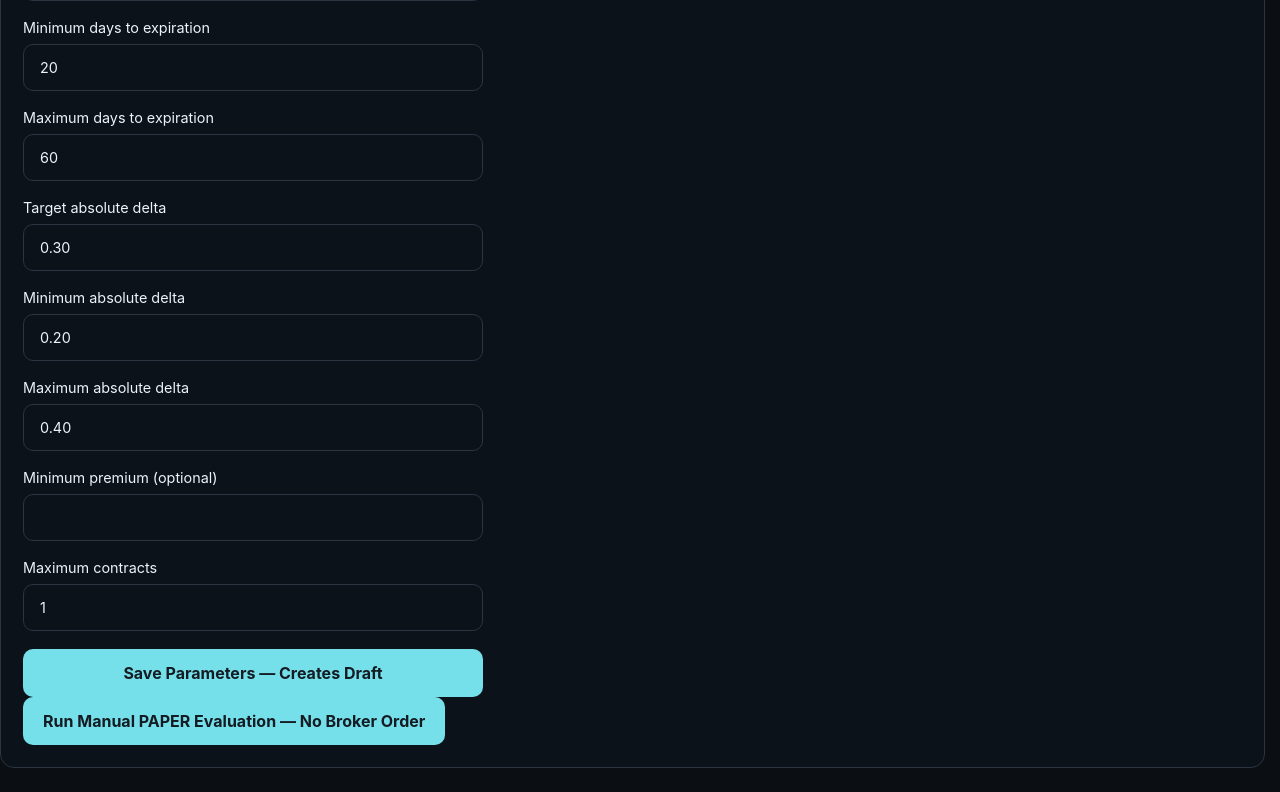
StrategyEvaluationControls › shows a safe validation reason when an evaluation fails closed
(page scrolled)
Click the button "Run Manual PAPER Evaluation — No Broker Order".
click(234, 721)  # box left=23, top=697, right=445, bottom=745
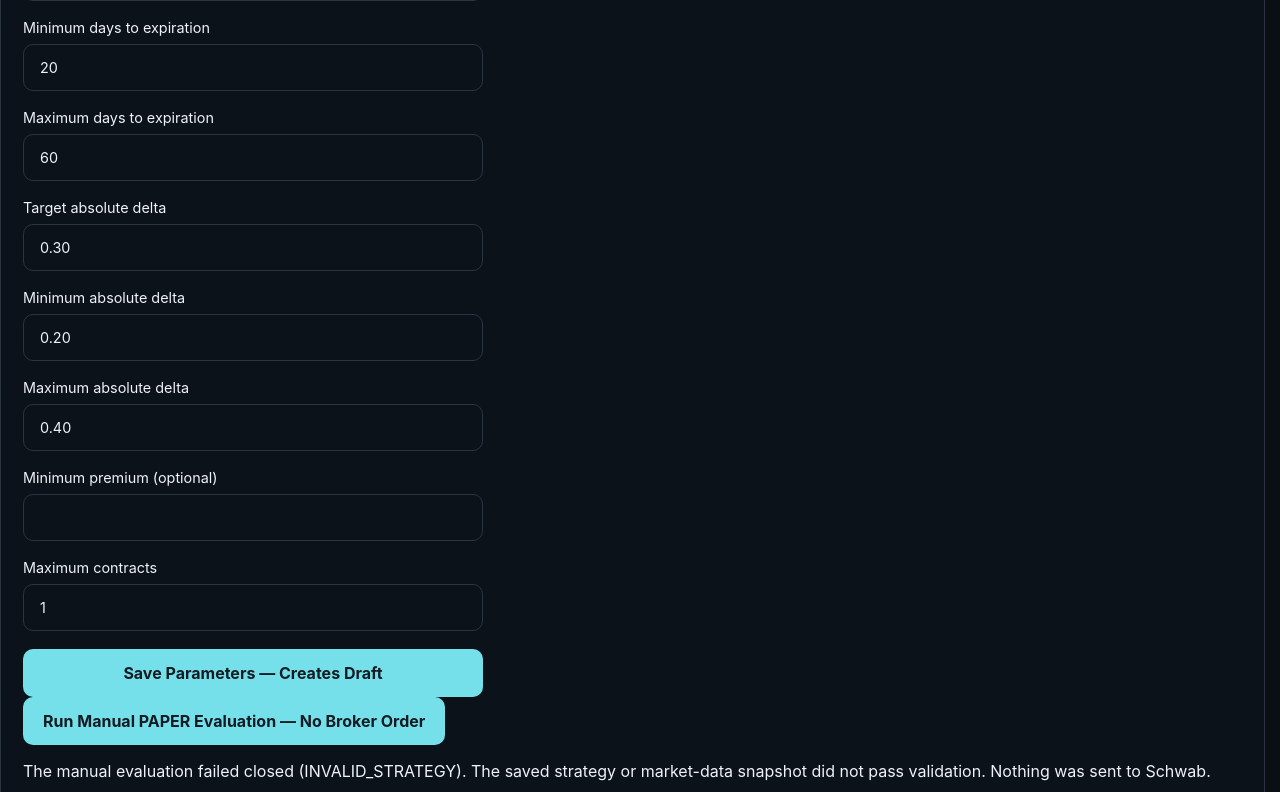
Expected: the text "nothing was sent to Schwab" is shown, left=23, top=761, right=1211, bottom=781
